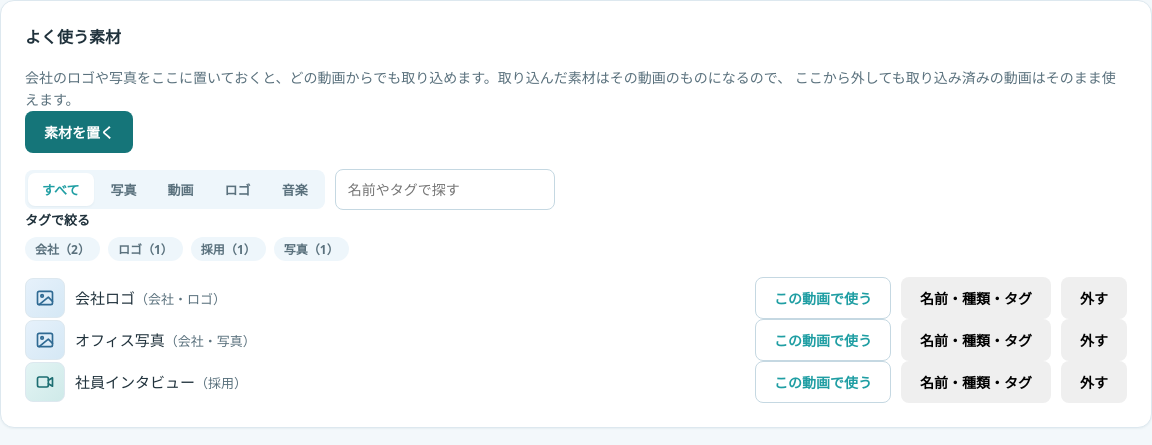
Scenario: AssetLibraryPanel › タグを選ぶと絞り込む（重ねるほど狭まる）
The width and height of the screenshot is (1152, 445).
Check: the text "会社ロゴ" is shown, box x1=75 y1=288 x2=135 y2=308
What coordinates should you click on to do the following:
click the button "会社（2）"
I would click on:
 (62, 249)
Its box is x1=25 y1=237 x2=100 y2=261.
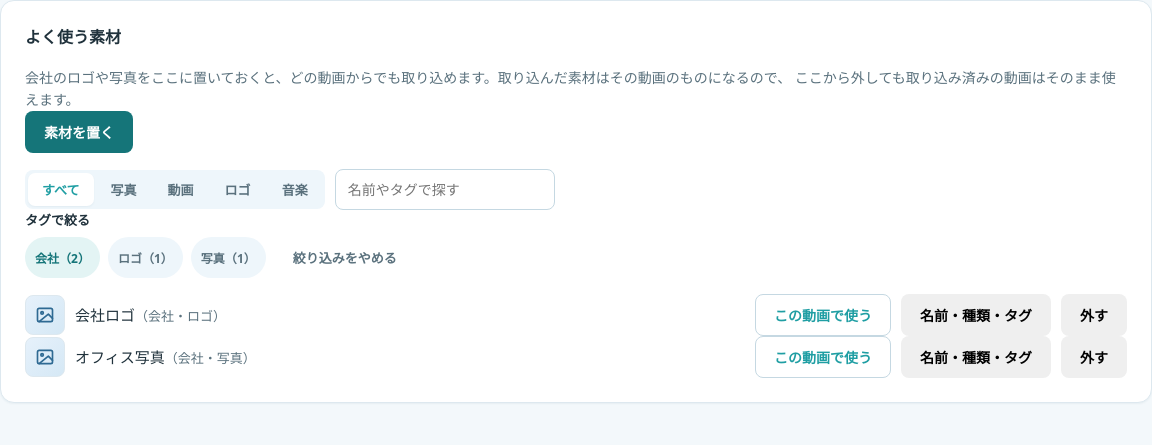
Check: the text "社員インタビュー" is gone
# ⚠️ 種類のタブにも「写真」があるので、タグの側（`aria-pressed` を持つ）を選ぶ。
What coordinates should you click on to do the following:
click the button "写真（1）"
I would click on:
 (228, 258)
Its box is x1=191 y1=237 x2=266 y2=278.
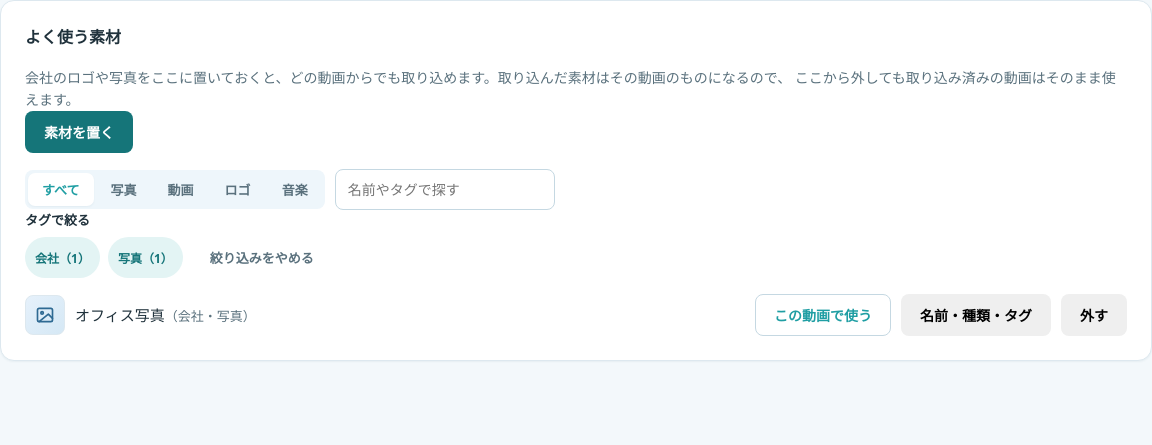
Check: the text "オフィス写真" is shown, box x1=75 y1=305 x2=165 y2=325
Check: the text "会社ロゴ" is gone
